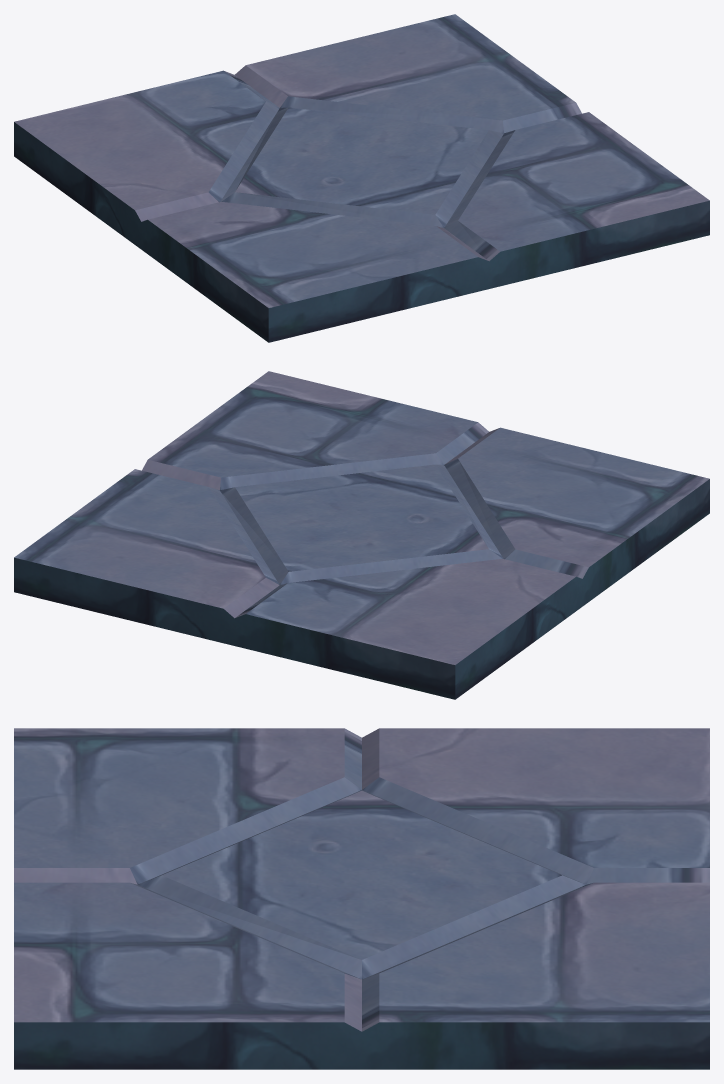
The model's file is floor_tile_small.gltf.
3 renders of one model, top to bottom at view 1: azimuth 30°, elevation 25°; view 2: azimuth 150°, elevation 25°; view 3: azimuth 270°, elevation 25°, orthographic. The views are drawn at different scales.
Parts seen in each view (by area): view 1: floor_tile_small; view 2: floor_tile_small; view 3: floor_tile_small.
Part boxes in pixels (left/top/right/bottom): floor_tile_small: left=14, top=14, right=709, bottom=342; floor_tile_small: left=14, top=371, right=709, bottom=699; floor_tile_small: left=14, top=728, right=709, bottom=1069.
Bounding box in the file's own units: 2 × 0.15 × 2.
Materials: 2 (2 with a texture image).
